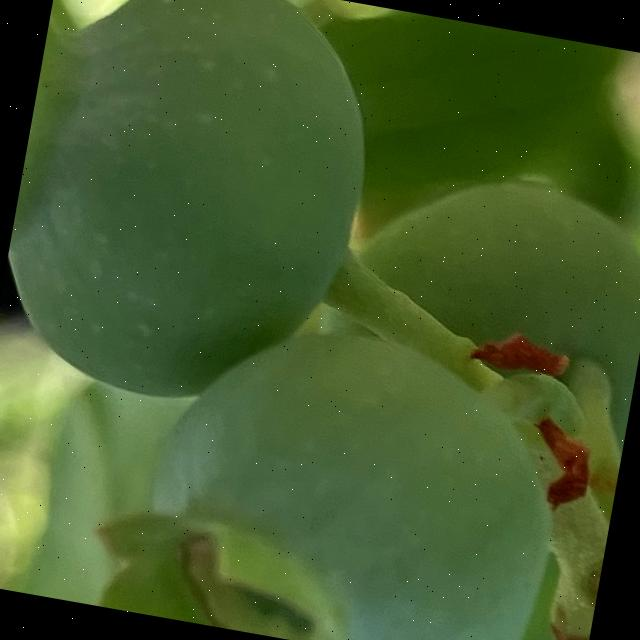Blueberries: (58, 283, 587, 640), (0, 0, 398, 431)
